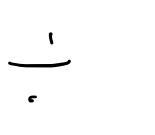div: (9, 30, 70, 104)
